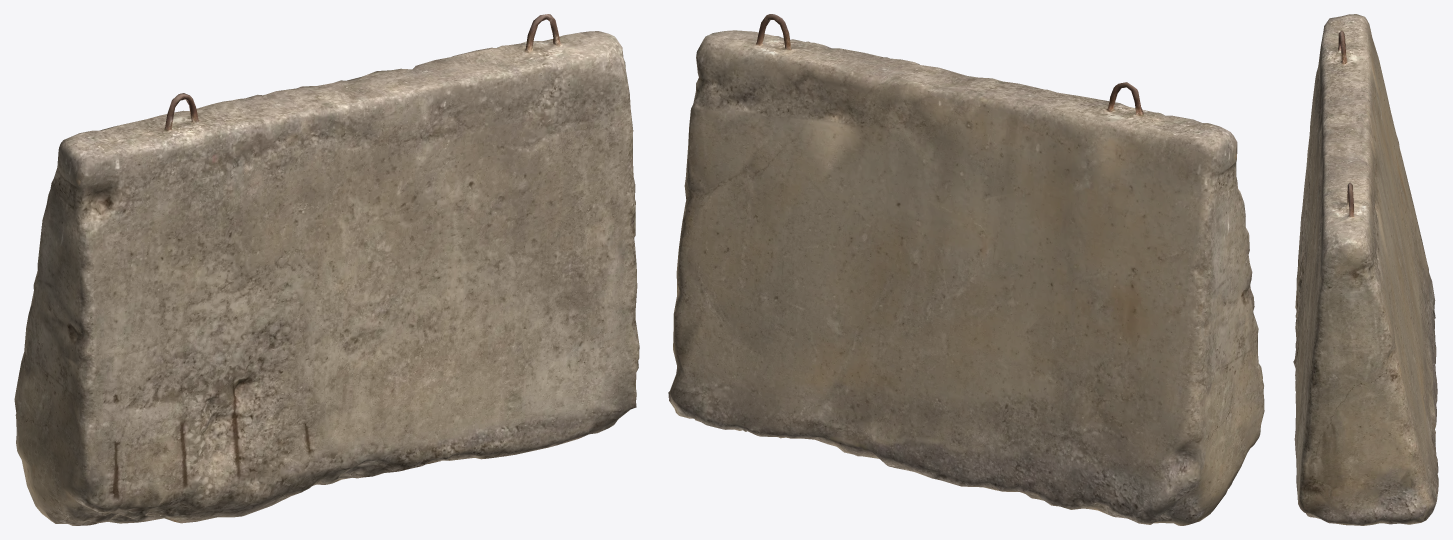
Rendered from concrete_road_barrier_02.glb.
3 views of the same model, side by side, from view 1: azimuth 30°, elevation 25°; view 2: azimuth 150°, elevation 25°; view 3: azimuth 270°, elevation 25° (orthographic). The views are drawn at different scales.
Parts seen in each view (by area): view 1: concrete_road_barrier_02; view 2: concrete_road_barrier_02; view 3: concrete_road_barrier_02.
Part boxes in pixels (x1,y1,x2,y2): concrete_road_barrier_02: (14, 14, 639, 525); concrete_road_barrier_02: (668, 14, 1264, 525); concrete_road_barrier_02: (1293, 14, 1438, 525).
Size of the model in its own units: 1.56 by 1.11 by 0.4422.
Materials: 1 (1 with a texture image).
